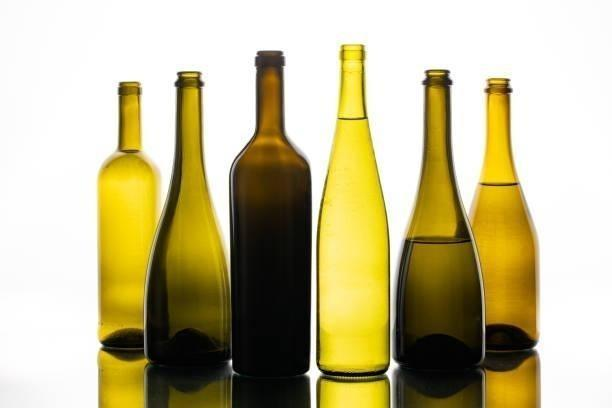bottle-glass: (225, 46, 316, 380), (391, 64, 487, 373), (142, 68, 233, 368), (314, 40, 393, 380), (463, 72, 543, 352), (93, 76, 164, 351)
